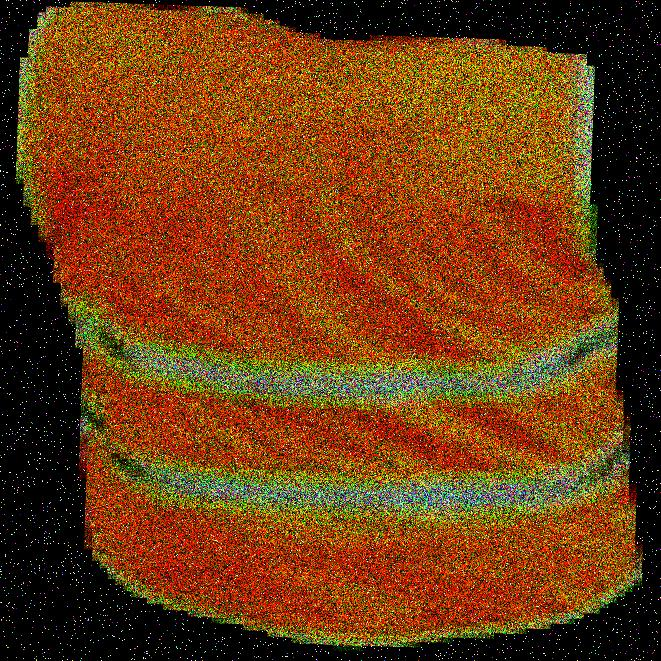Colete: (29, 0, 658, 660)
